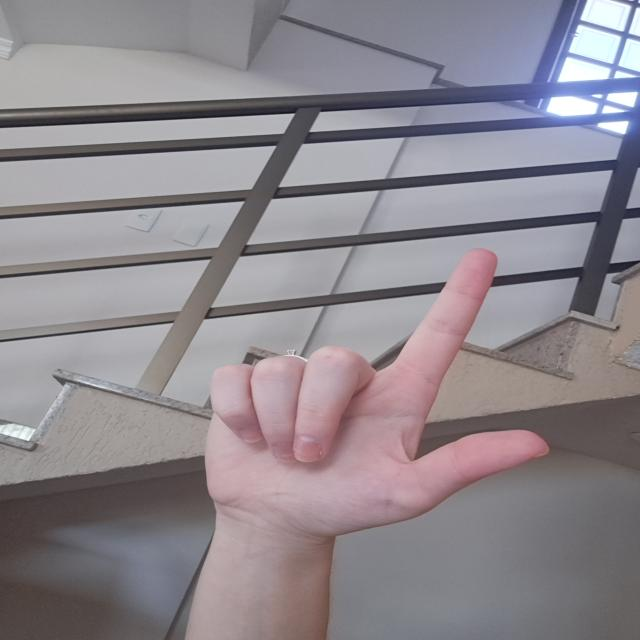L: (194, 249, 562, 531)
